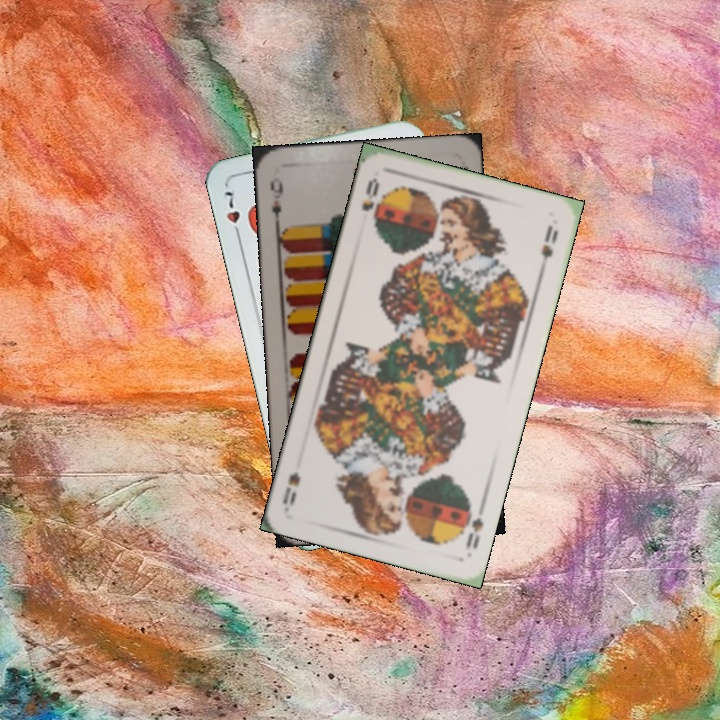E9: (266, 173, 285, 230)
H7: (220, 185, 243, 242)
SO: (458, 497, 488, 559), (357, 173, 383, 230)
